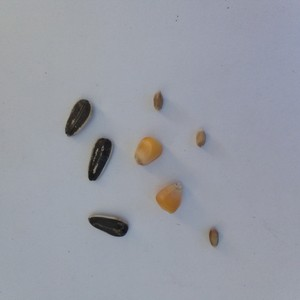girasol: (84, 133, 112, 183), (84, 212, 131, 241), (60, 95, 91, 137)
maiz: (153, 179, 186, 214), (132, 132, 164, 167)
trigo: (150, 88, 168, 113), (206, 224, 223, 250), (193, 127, 209, 150)
